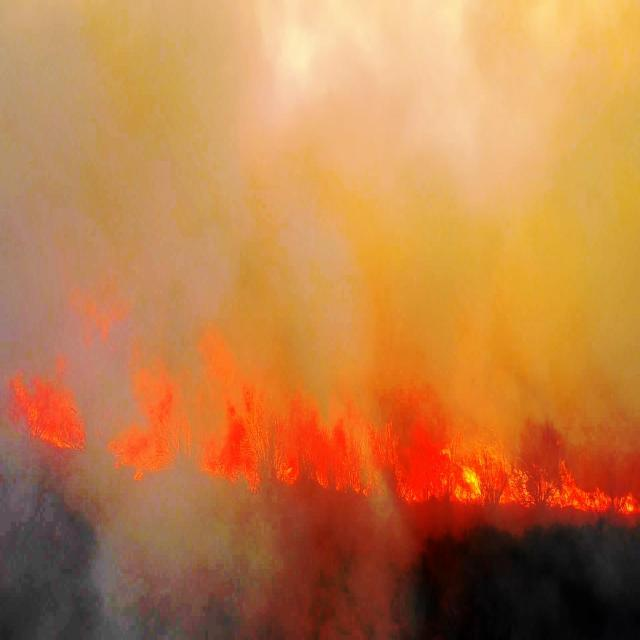Fire: (105, 360, 640, 520), (7, 362, 90, 466)
Smoke: (0, 0, 640, 358)
